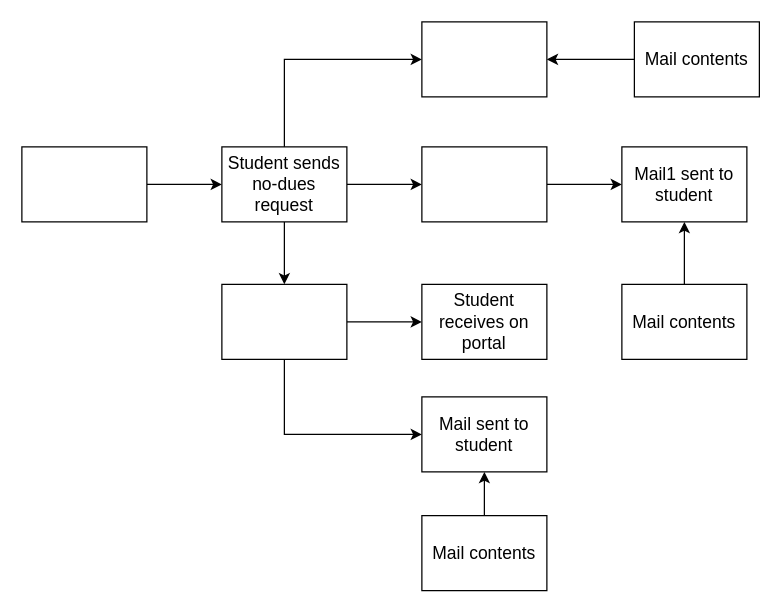
Some shapes in this 781 by 613 pixel diagram are drawn without their labels. Each missing label, with the centre of its shape:
Admin approves: point 484,184
Admin sends message: point 284,321
Mail sent to admin: point 484,59
Student logs in: point 84,184
